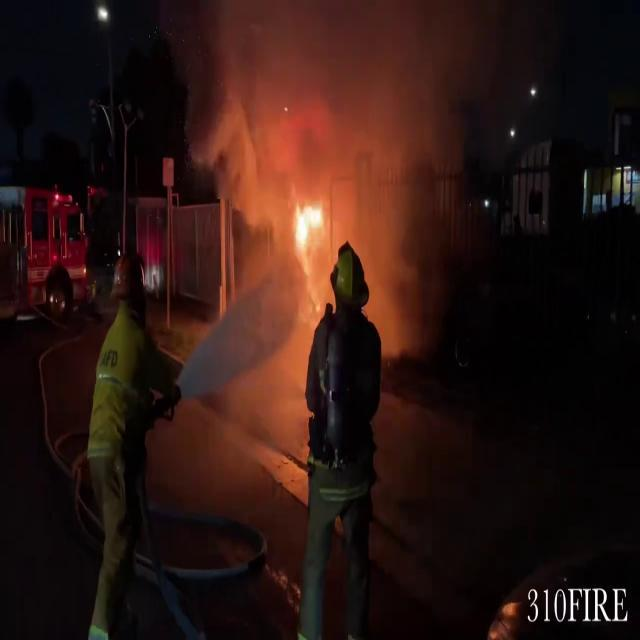Fire: (287, 190, 329, 273)
Smoke: (196, 1, 484, 354)
